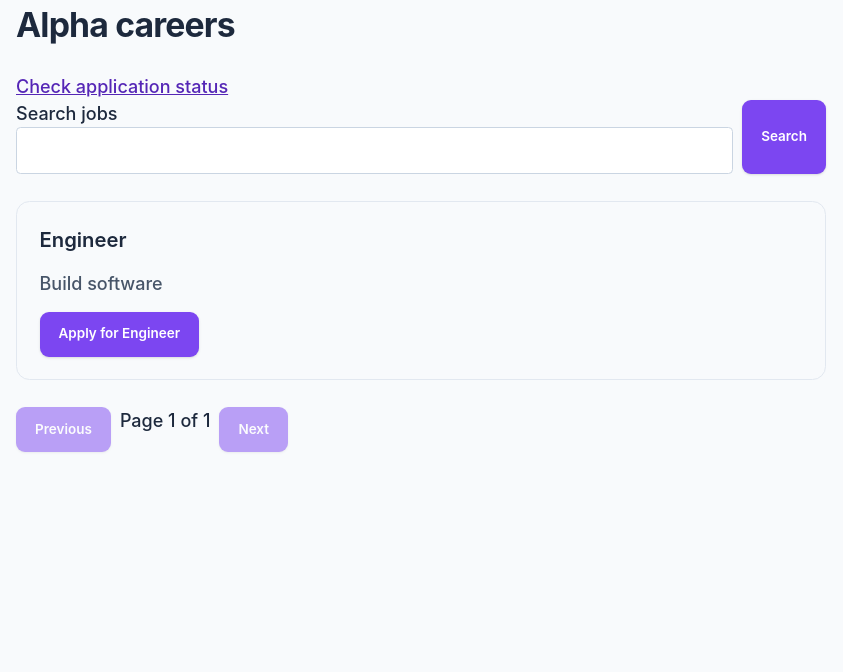
submits an application with explicit consent and the displayed notice version
Click the button "Apply for Engineer" at (119, 334), box [40,312,199,357]
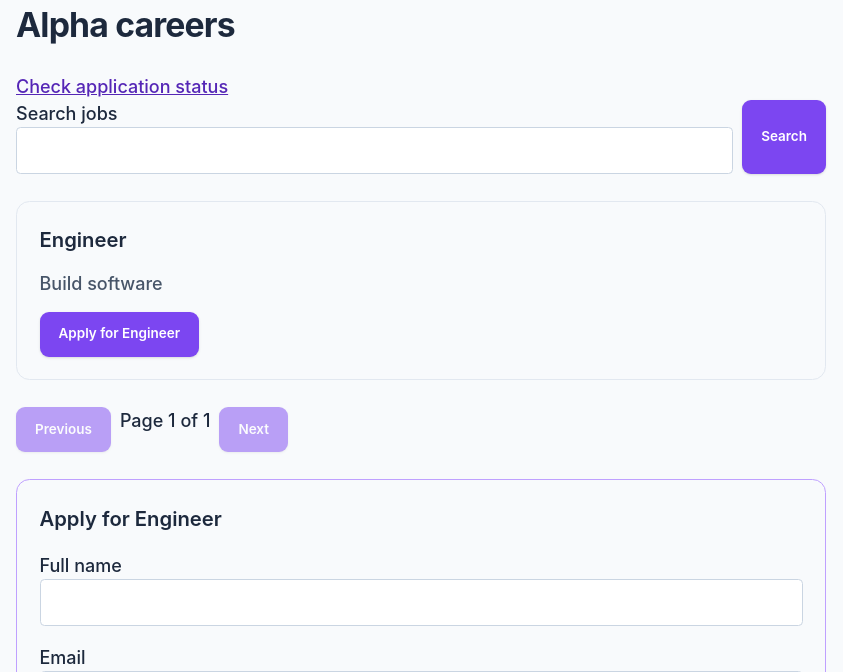
Type "Asha Rao" into the field labelled "Full name" at (421, 603), box [40,579,802,626]
(page scrolled)
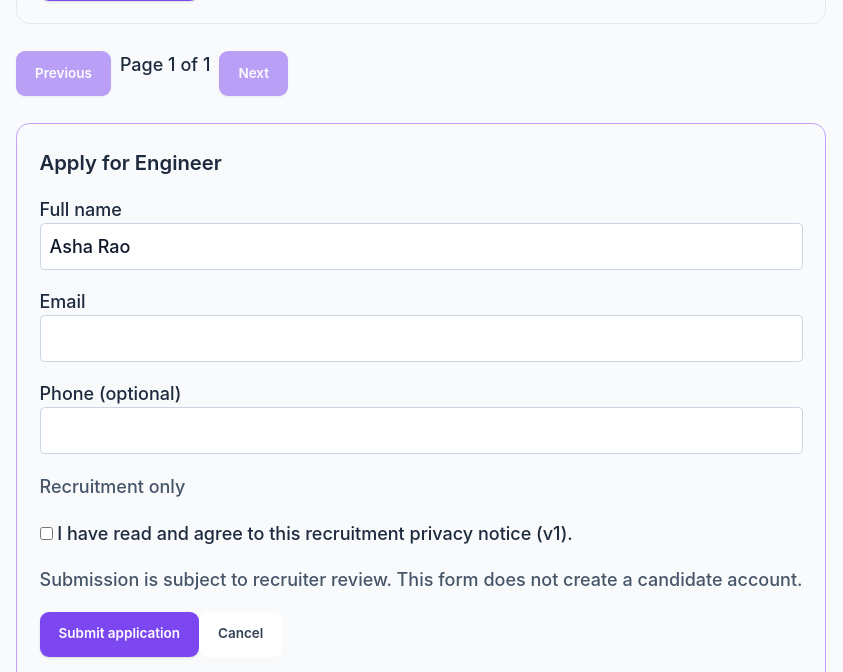
Type "asha@example.test" into the field labelled "Email" at (421, 339), box [40,315,802,362]
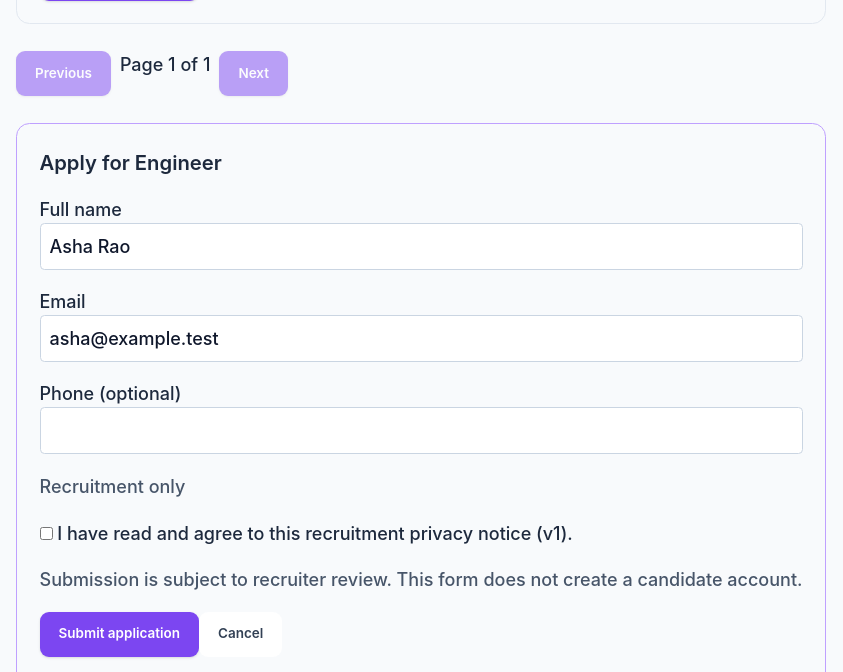
Click the checkbox at (46, 533), box [40,526,52,540]
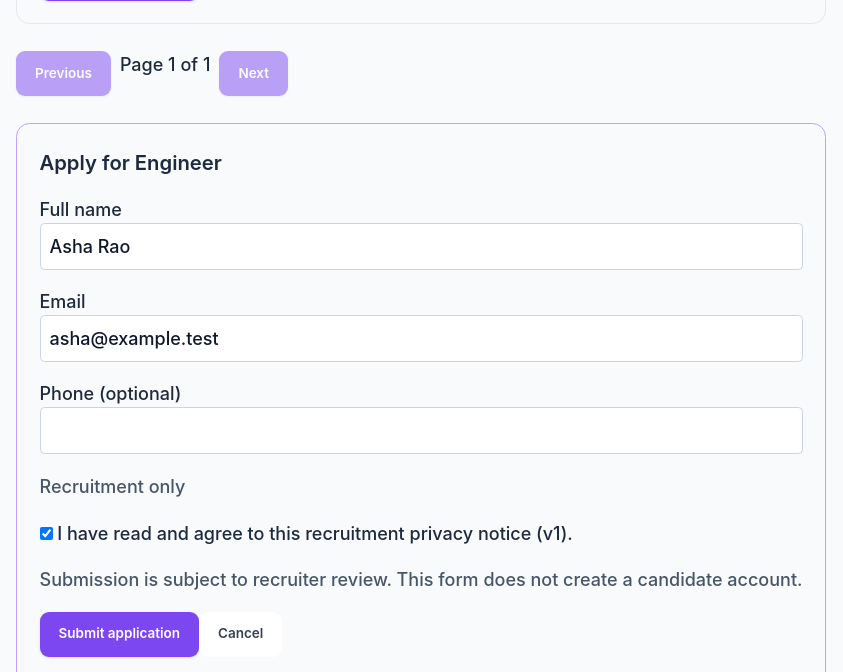
Click the button "Submit application" at (119, 634), box [40,612,199,657]
(page scrolled)
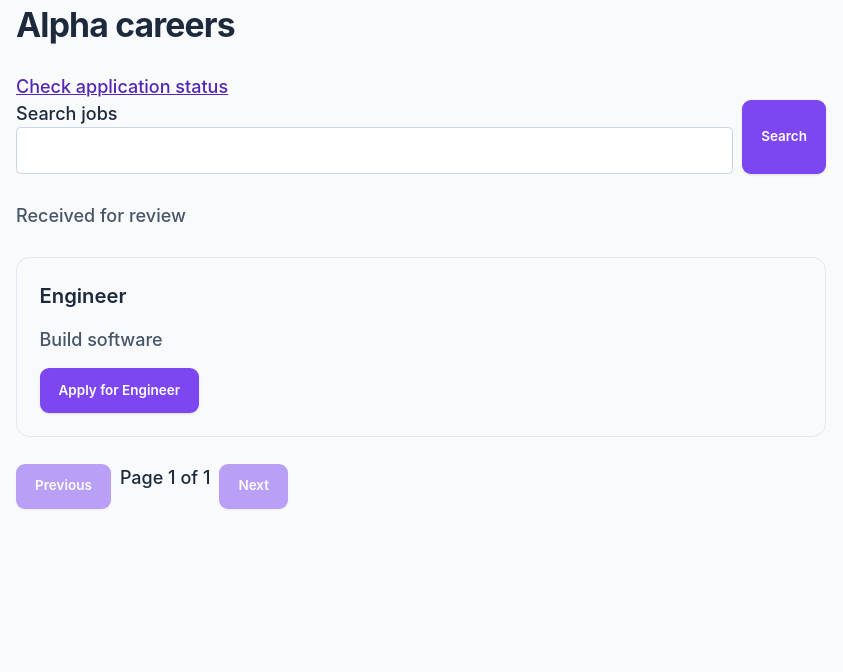
Expected: the message reads "Received for review", [16,204,186,226]
